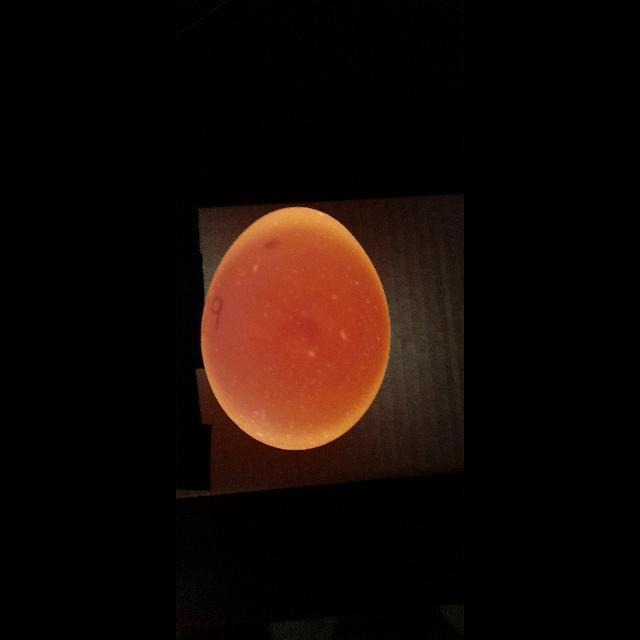Inedible: (189, 197, 416, 464)
